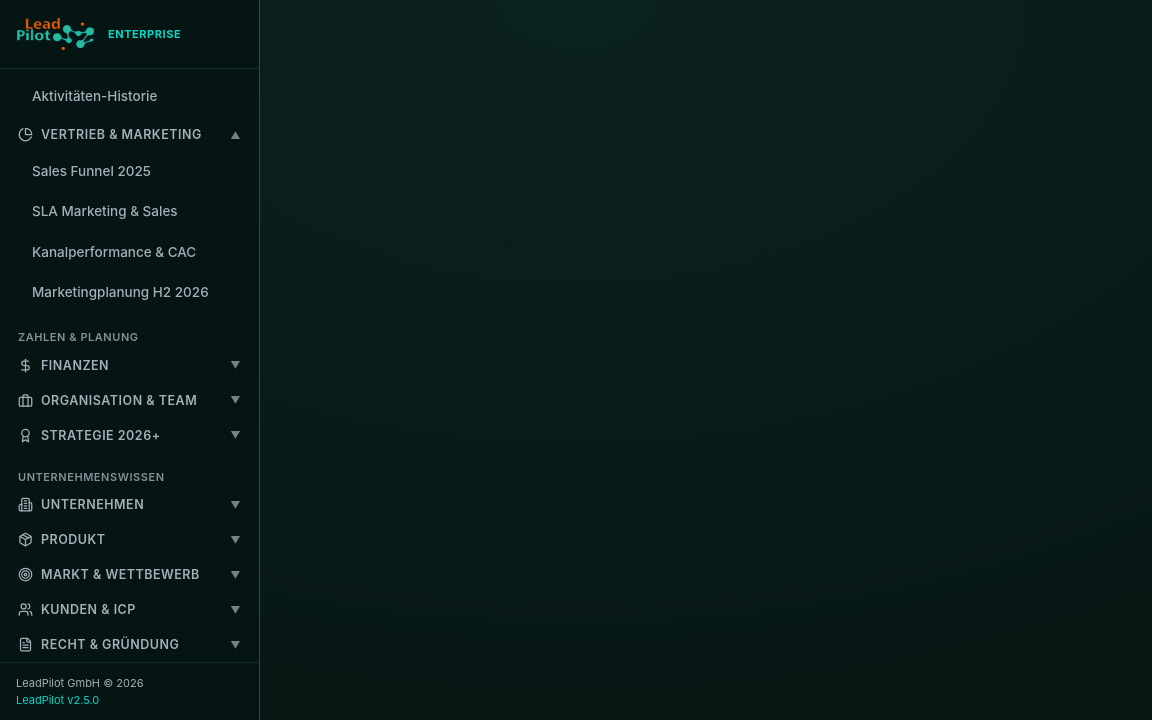
Sidebar (branch) › öffnet eine geschlossene Kategorie und zeigt ihre Einträge
This screenshot has width=1152, height=720.
(page scrolled)
Expected: the text "Gewinn- und Verlustrechnung" is not shown
Click the button "Finanzen ▼".
click(130, 365)  # box top-left (8, 350), bottom-right (251, 380)
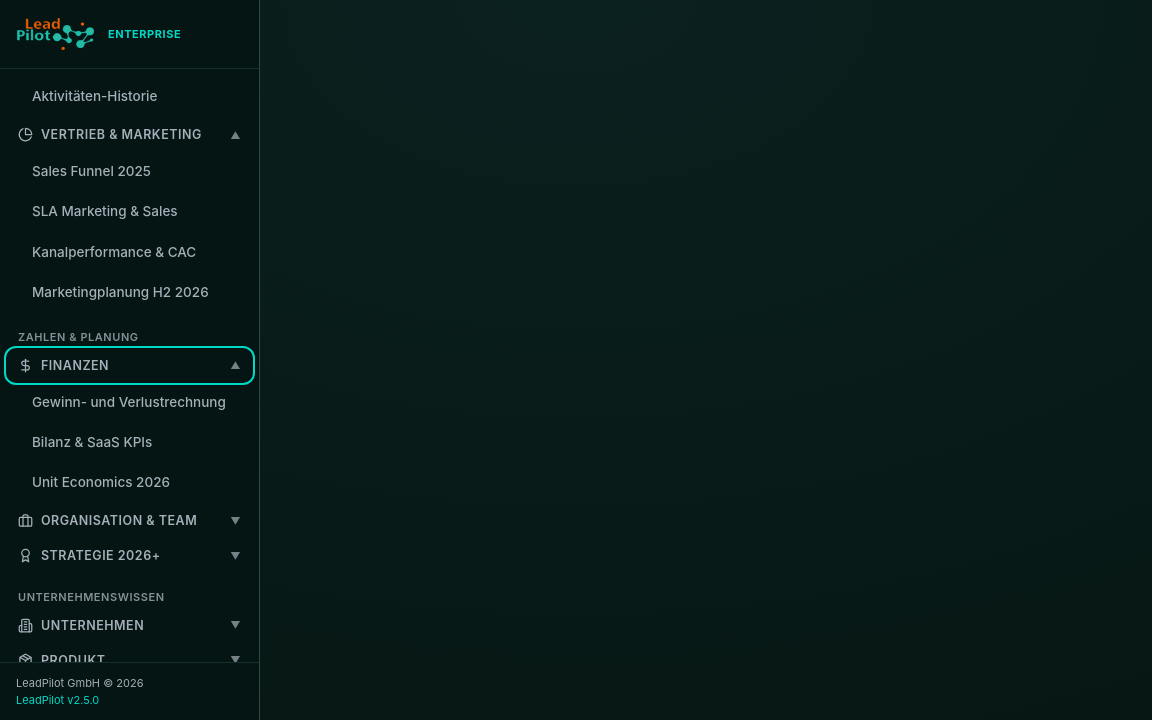
Now the button "Finanzen ▲" is expanded, box top-left (8, 350), bottom-right (251, 380)
Now the text "Gewinn- und Verlustrechnung" is shown, box top-left (32, 392), bottom-right (239, 412)
